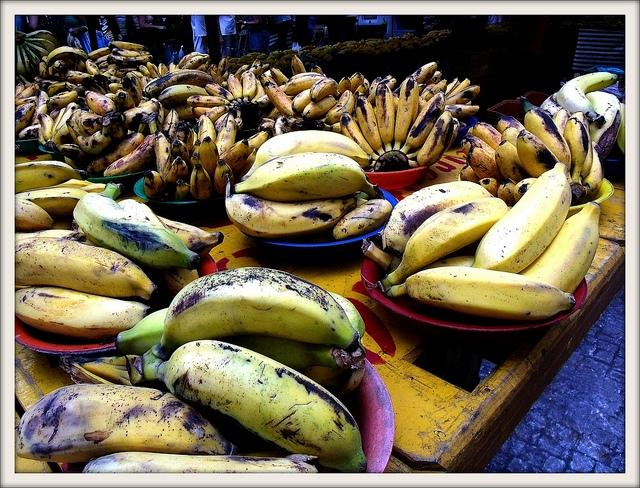banana: (143, 339, 367, 474), (151, 267, 358, 361), (16, 384, 240, 462), (377, 197, 510, 292), (470, 162, 572, 274), (72, 182, 200, 270), (386, 266, 576, 321), (15, 236, 158, 300), (225, 174, 358, 238), (381, 181, 494, 256), (117, 199, 199, 300), (15, 284, 154, 342), (516, 202, 602, 294), (231, 152, 385, 202), (240, 130, 373, 182), (82, 451, 318, 474), (209, 336, 351, 372), (520, 96, 574, 184), (361, 236, 475, 274), (556, 71, 620, 126), (103, 120, 163, 178), (85, 122, 147, 178), (156, 216, 224, 260), (400, 91, 446, 154), (114, 307, 169, 356), (332, 198, 393, 242), (408, 110, 454, 168), (15, 161, 90, 194), (586, 91, 622, 158), (15, 186, 89, 218), (142, 70, 216, 100), (516, 130, 560, 178), (392, 76, 420, 150), (340, 112, 380, 161), (356, 94, 386, 156), (102, 101, 160, 132), (563, 116, 589, 184), (570, 112, 593, 186), (495, 140, 533, 183), (264, 81, 302, 120), (314, 90, 355, 126), (76, 360, 132, 386), (376, 82, 396, 151), (468, 146, 504, 184), (15, 197, 54, 232), (581, 140, 604, 198), (198, 136, 220, 190), (219, 138, 250, 175), (54, 144, 96, 170), (18, 179, 95, 193), (157, 84, 210, 104), (215, 110, 237, 156), (164, 156, 188, 196), (284, 75, 328, 96), (472, 121, 502, 150), (85, 90, 117, 117), (153, 130, 171, 178), (47, 47, 88, 68), (302, 96, 338, 119), (54, 102, 78, 136), (51, 124, 78, 154), (446, 84, 482, 106), (14, 102, 36, 138), (190, 164, 212, 200), (310, 78, 342, 102), (214, 158, 234, 196), (75, 111, 103, 138), (32, 90, 52, 126), (144, 169, 168, 198), (162, 108, 180, 145), (161, 103, 196, 122), (204, 83, 237, 103), (185, 95, 235, 108), (247, 130, 272, 156), (411, 61, 439, 84), (46, 90, 78, 110), (497, 178, 518, 208), (26, 30, 61, 48), (66, 118, 90, 144), (540, 90, 562, 118), (106, 54, 153, 67), (444, 104, 479, 121), (122, 76, 141, 107), (514, 178, 538, 202), (226, 73, 244, 105), (496, 115, 526, 134), (203, 106, 234, 124), (50, 107, 66, 141), (53, 70, 91, 84), (198, 114, 216, 142), (37, 113, 54, 142), (477, 178, 501, 198), (446, 78, 470, 98), (24, 41, 50, 58), (108, 41, 148, 52), (459, 165, 482, 184), (243, 70, 257, 101), (501, 126, 520, 148), (14, 84, 36, 103), (18, 123, 42, 140), (180, 55, 208, 69), (174, 179, 191, 201), (80, 184, 124, 192), (174, 119, 188, 144), (186, 152, 198, 181), (112, 48, 150, 57), (16, 45, 26, 79), (444, 78, 460, 99), (234, 64, 252, 82), (291, 54, 306, 75), (430, 79, 448, 95), (257, 68, 280, 80), (338, 76, 352, 95), (350, 72, 362, 94), (219, 67, 232, 87), (146, 62, 160, 80), (369, 77, 382, 95), (14, 76, 24, 99), (416, 96, 426, 119), (86, 59, 100, 75), (74, 60, 89, 74), (263, 74, 279, 87), (392, 92, 399, 118), (108, 83, 124, 94), (39, 62, 49, 79), (139, 65, 152, 78), (32, 82, 48, 92), (280, 54, 300, 62), (71, 86, 87, 95), (158, 63, 168, 77), (50, 110, 62, 120), (311, 65, 323, 75), (98, 61, 109, 70), (126, 72, 140, 79), (169, 62, 176, 74), (364, 82, 369, 98), (268, 66, 284, 70), (100, 68, 108, 75), (212, 64, 218, 73), (258, 59, 266, 63), (119, 78, 122, 84)
